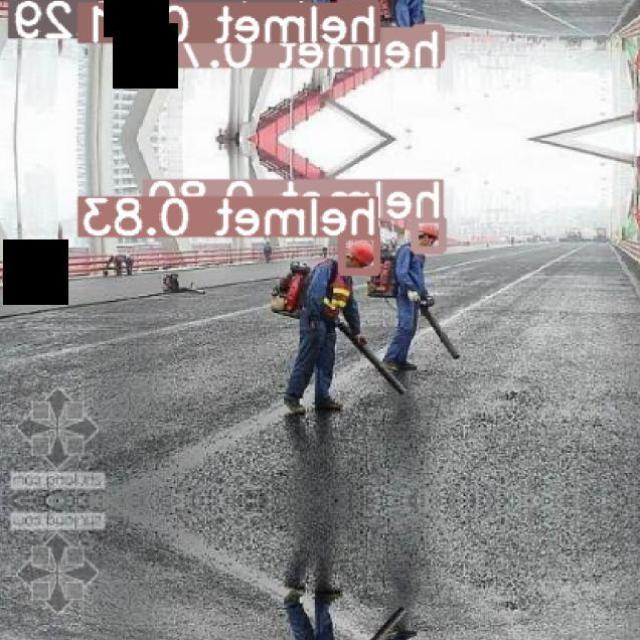helmet: (350, 240, 374, 264), (418, 222, 440, 238)
